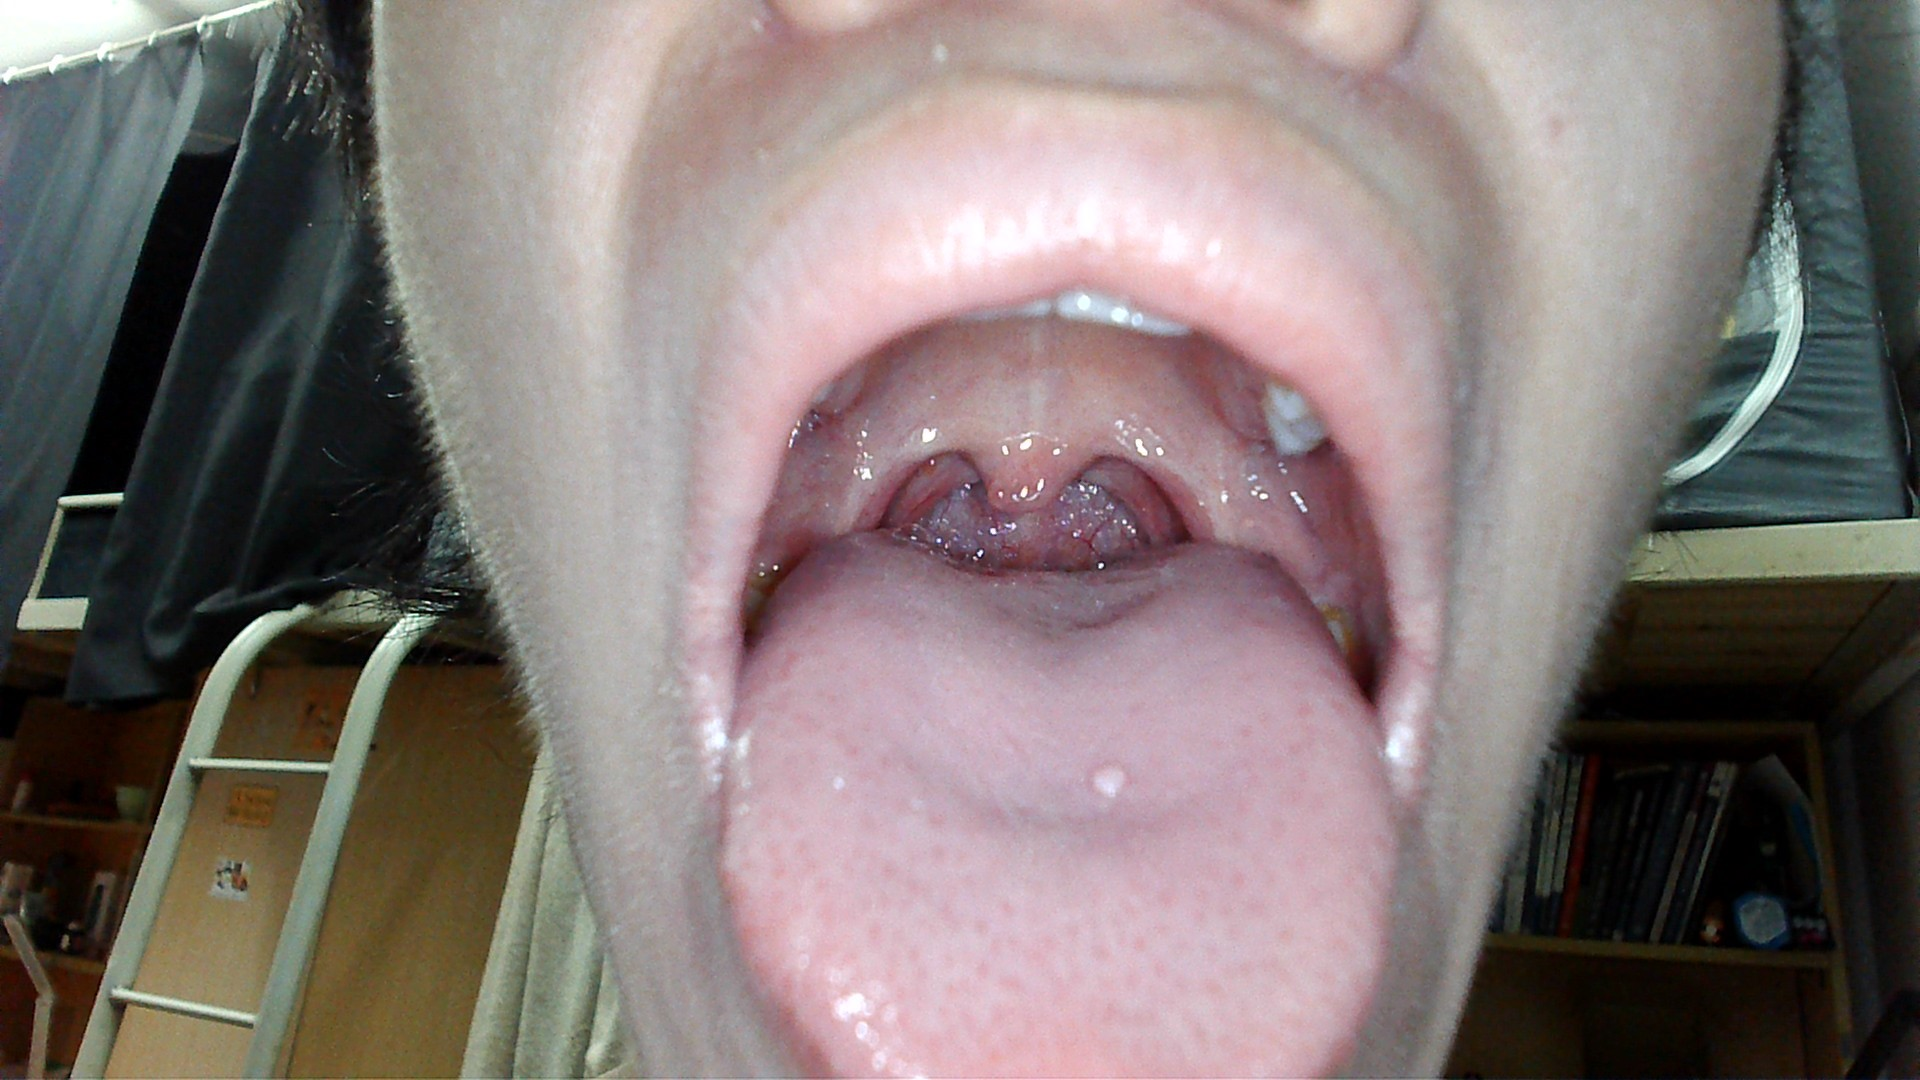throat: (1142, 415, 1250, 549), (825, 425, 930, 531)
